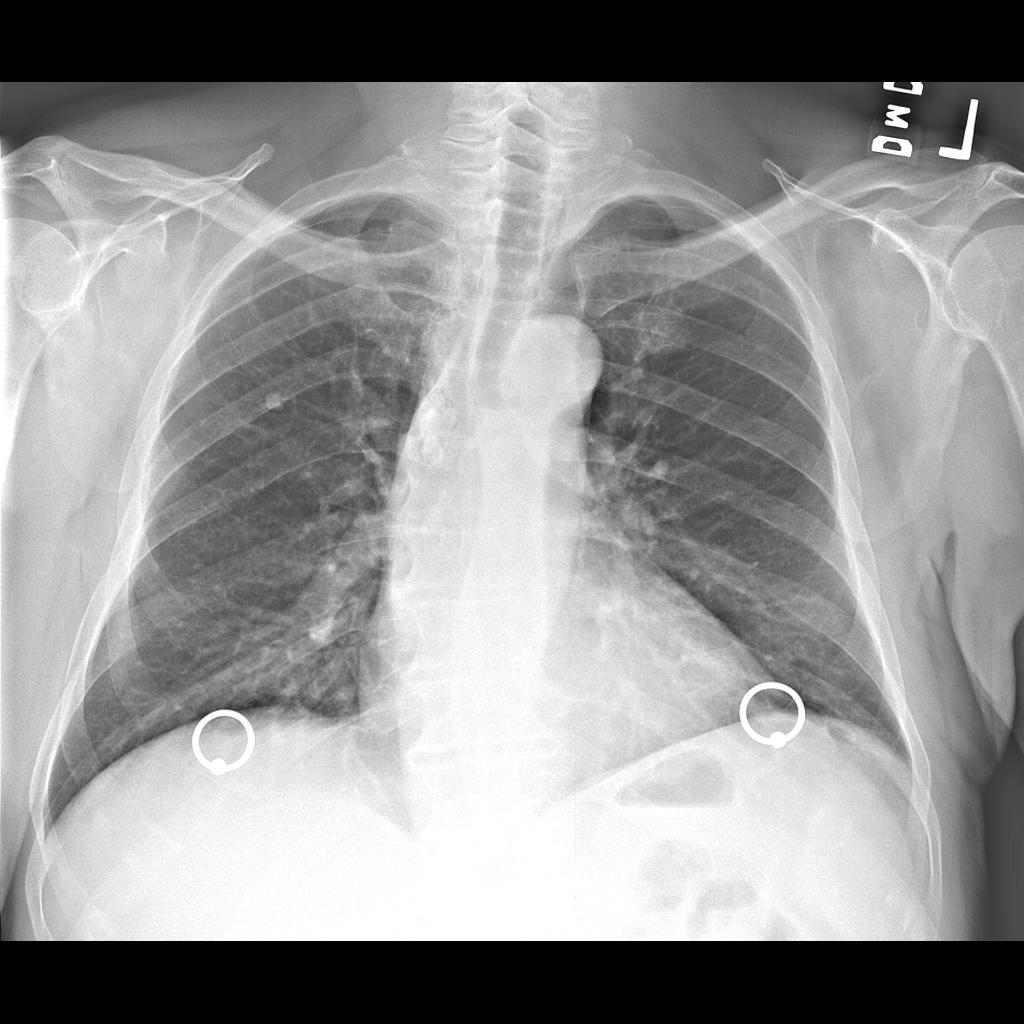Nodule: (641, 311, 694, 353), (267, 394, 281, 407)
